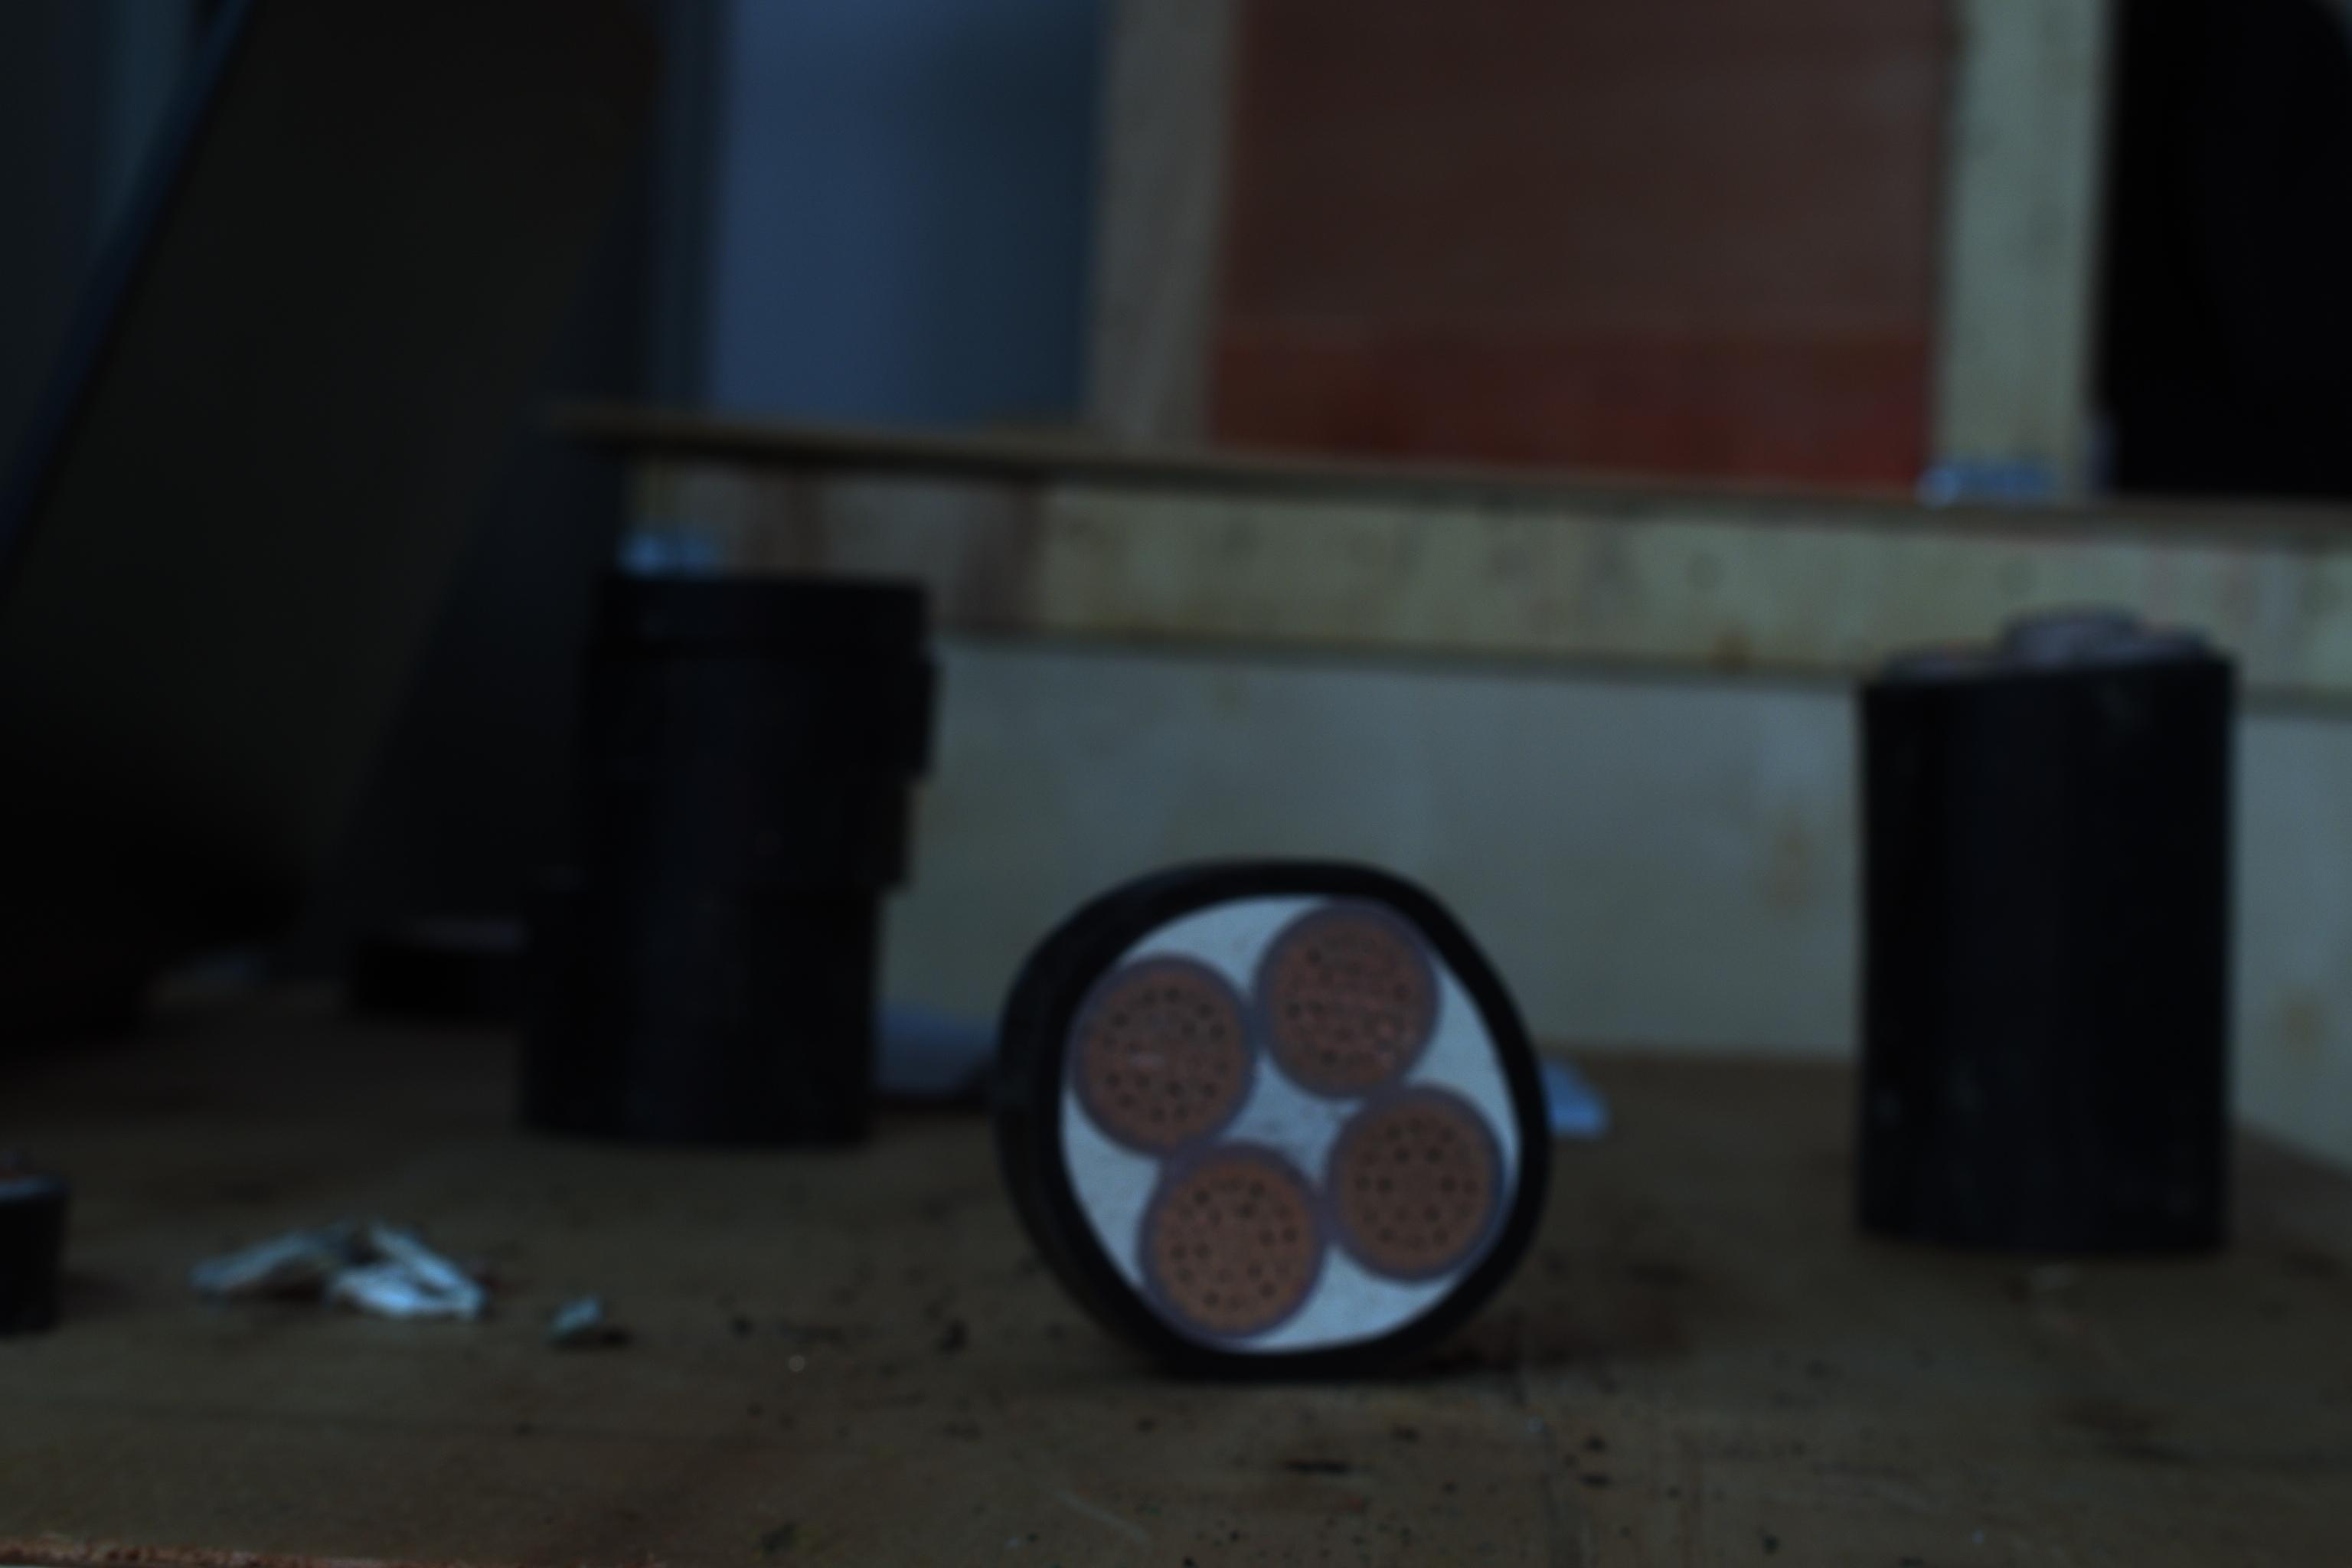YJV_0.6_1kV_4x240: (1041, 864, 1545, 1356)
